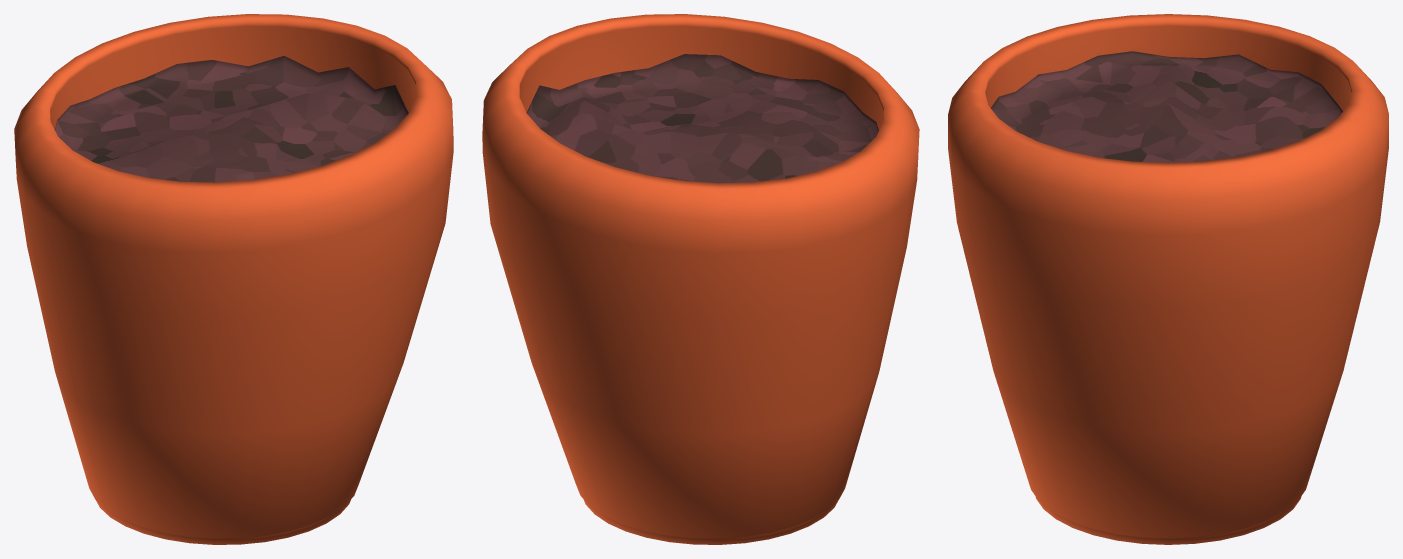
Rendered from PlantPot.glb.
3 renders of one model, left to right at view 1: azimuth 30°, elevation 25°; view 2: azimuth 150°, elevation 25°; view 3: azimuth 270°, elevation 25°, orthographic. The views are drawn at different scales.
Parts seen in each view (by area): view 1: PlantPot; view 2: PlantPot; view 3: PlantPot.
Part boxes in pixels (box(x1,y1,x2,y2)): PlantPot: box(14, 14, 453, 544); PlantPot: box(482, 14, 919, 544); PlantPot: box(948, 14, 1388, 544).
Size of the model in its own units: 0.3136 by 0.3086 by 0.2993.
Materials: 2 (1 with a texture image).
